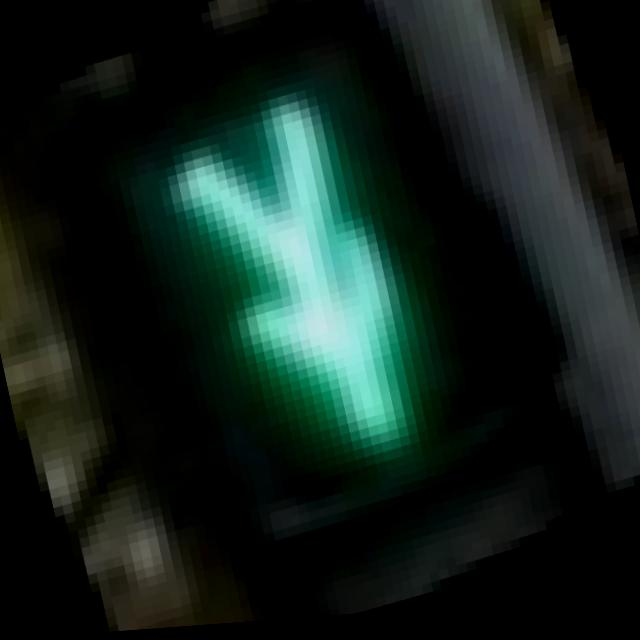green_light: (74, 5, 533, 578)
